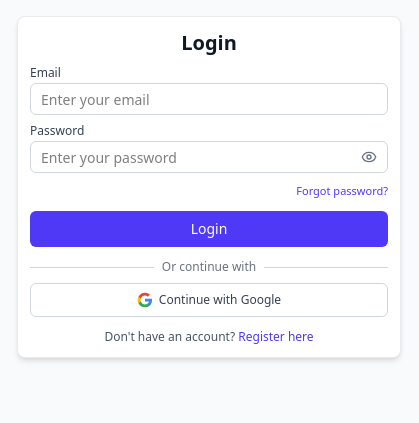
it: Login Component › Form Submission - Error Cases › should display error when fetch fails
Type "test@example.com" into the field labelled "Email". click: (209, 99)
box: [30,83,388,115]
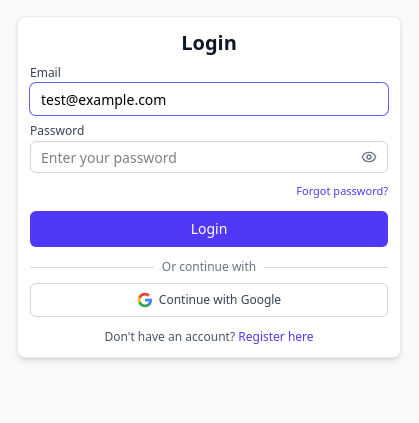
Type "password123" into the password field labelled "Password". click: (209, 157)
box: [30,141,388,173]
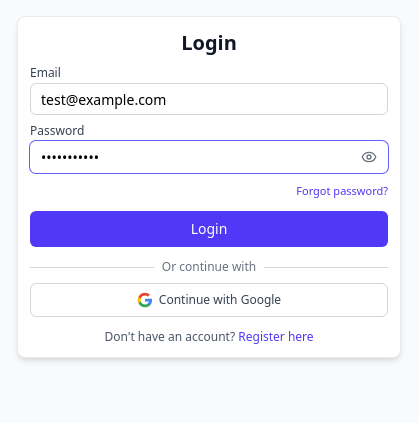
Click the button "Login". click: (209, 229)
box: [30,211,388,247]
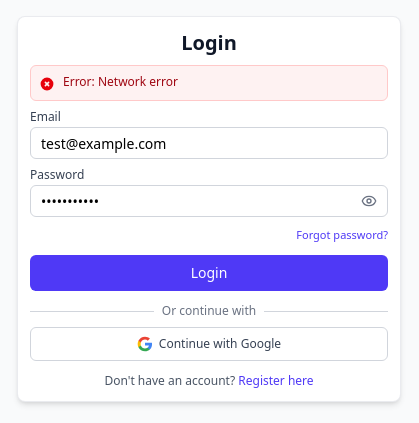
Expected: the text "Error: Network error" is shown, [63,74,178,90]
